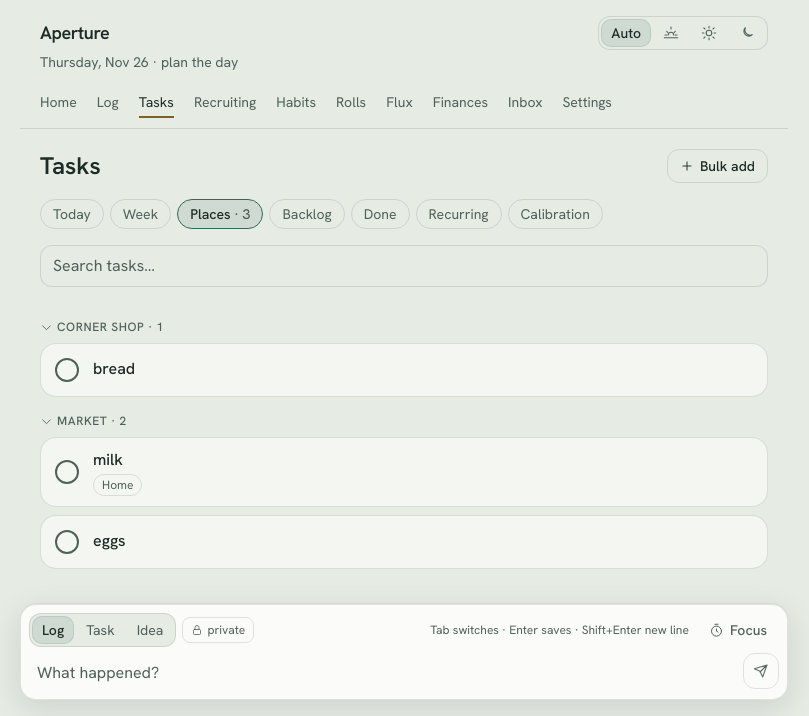
it: Places lens › a failed check-off says so and keeps the errand
This screenshot has width=809, height=716.
Click the button named "Check off milk" at [67, 472], box x1=45 y1=450 x2=89 y2=494
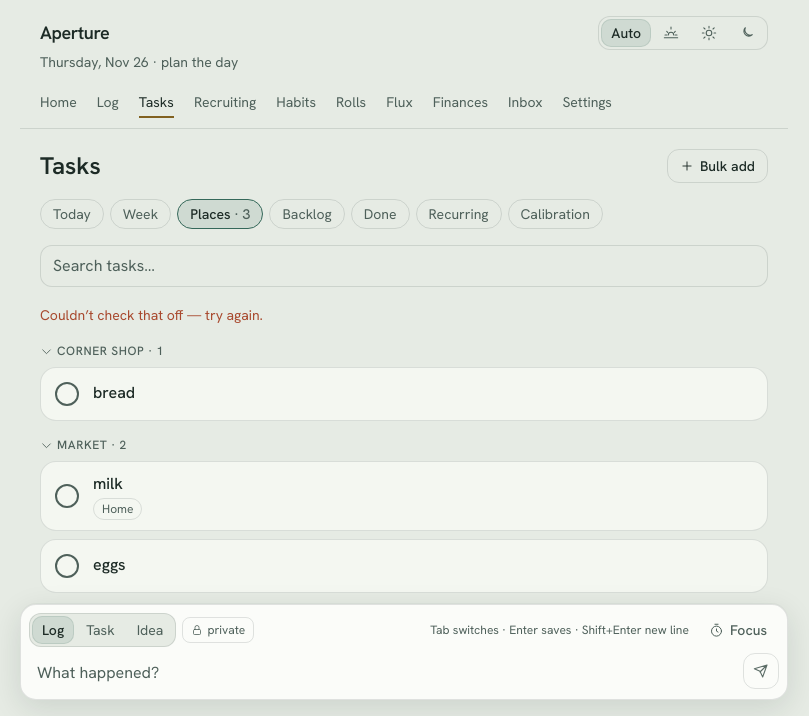
Expected: the button named "Check off milk" is shown, x1=45 y1=474 x2=89 y2=518
Expected: the text "Couldn’t check that off — try again." is shown, x1=40 y1=306 x2=263 y2=324
